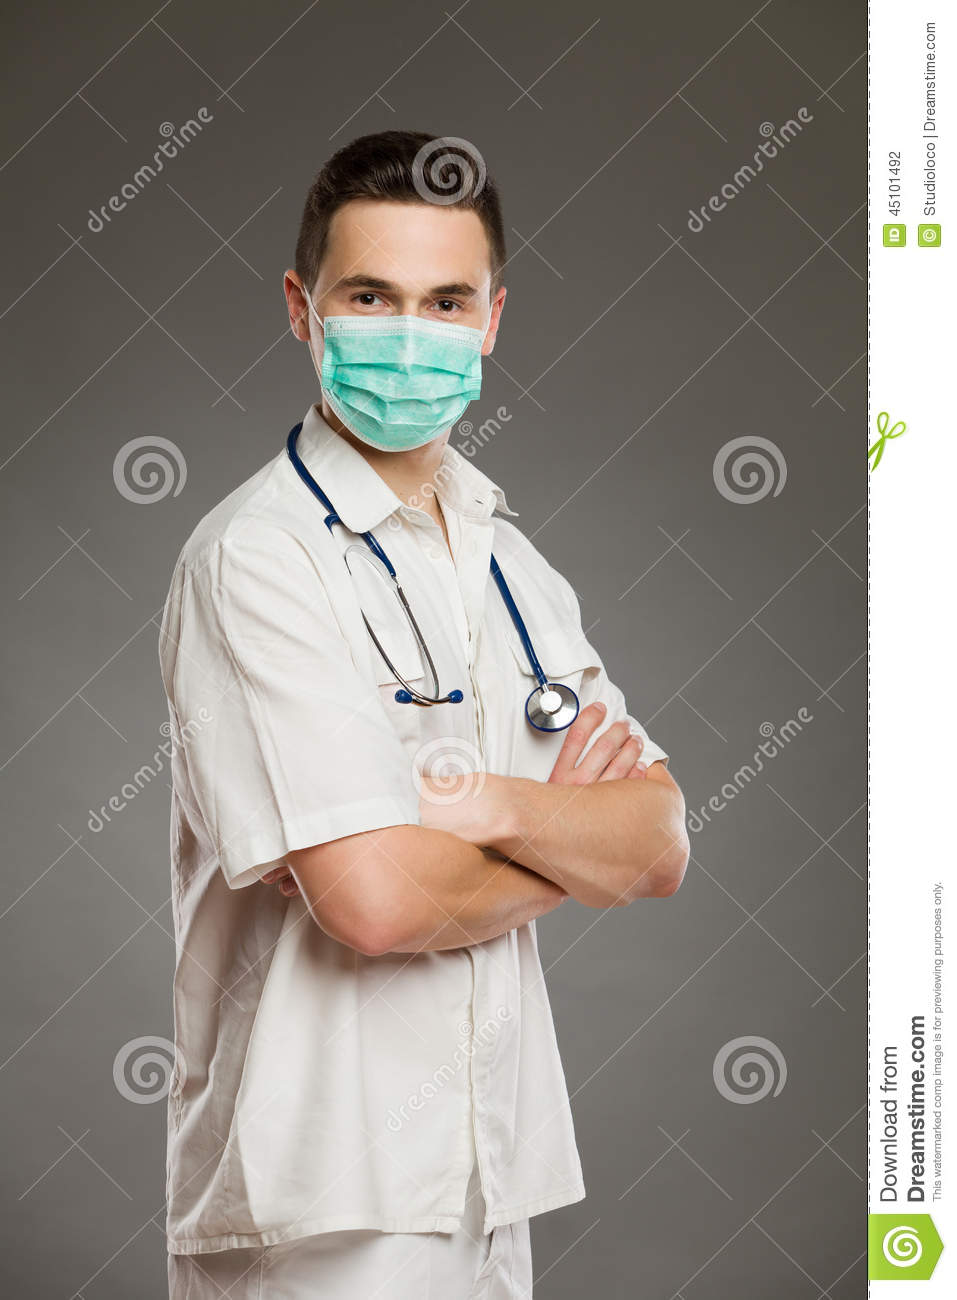mask: (326, 305, 494, 461)
